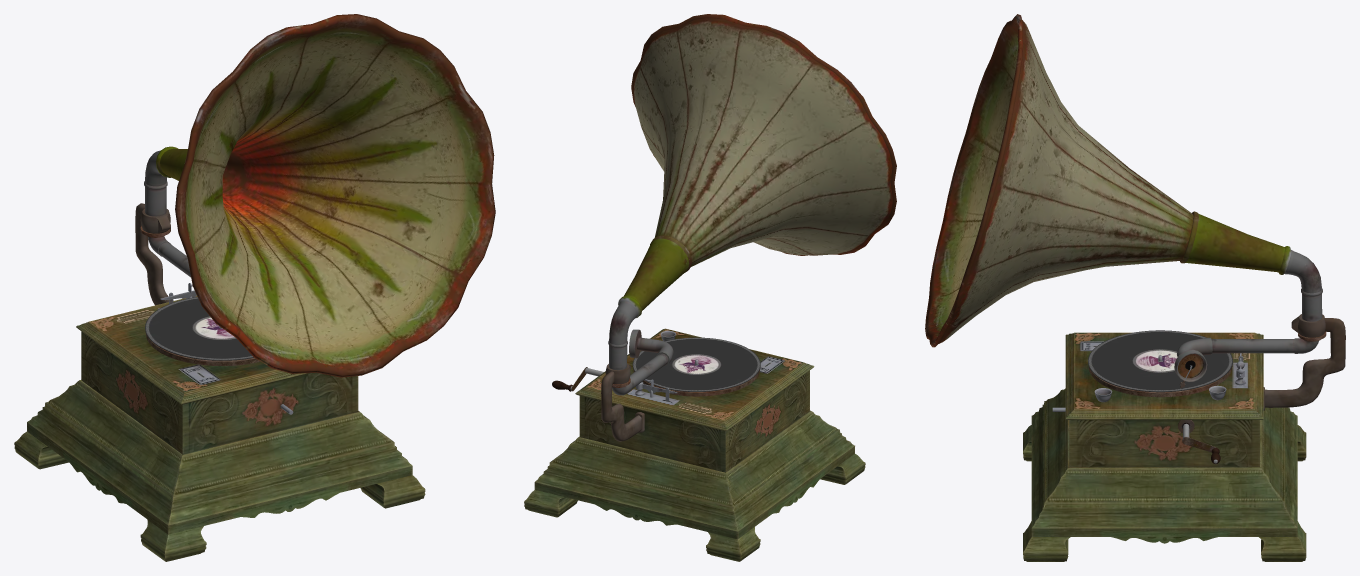
File: sf-gramophone.glb
3 renders of one model, left to right at view 1: azimuth 30°, elevation 25°; view 2: azimuth 150°, elevation 25°; view 3: azimuth 270°, elevation 25°, orthographic. The views are drawn at different scales.
Parts seen in each view (by area): view 1: Body_Low_Gramofone_0; view 2: Body_Low_Gramofone_0; view 3: Body_Low_Gramofone_0.
Boxes of the visible parts, bbox=[...] form: Body_Low_Gramofone_0: bbox=[14, 14, 495, 561]; Body_Low_Gramofone_0: bbox=[524, 14, 896, 561]; Body_Low_Gramofone_0: bbox=[925, 14, 1345, 561].
Size of the model in its own units: 0.3907 by 0.6 by 0.4778.
Materials: 1 (1 with a texture image).
